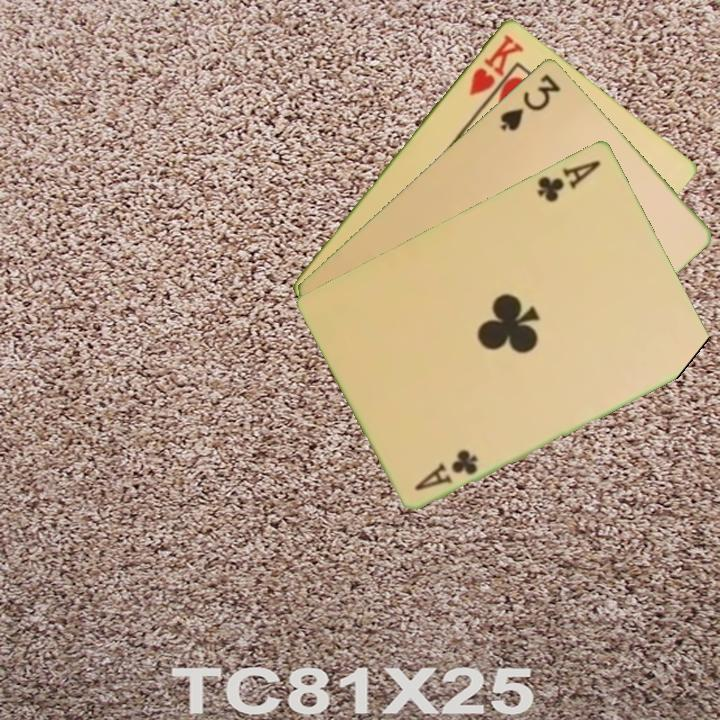3s: (496, 70, 564, 134)
Ac: (533, 156, 604, 205), (411, 445, 481, 494)
Kh: (465, 30, 526, 99)
